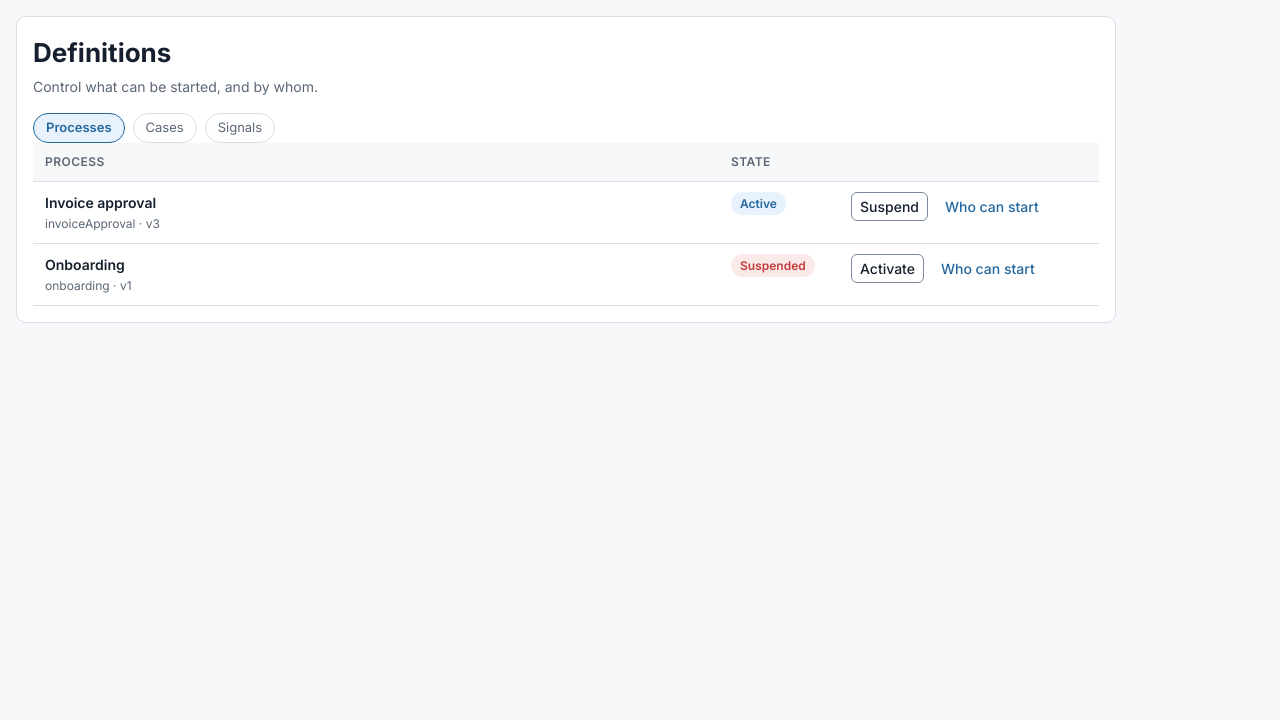
Definitions — authorized starters › explains that an empty list means unrestricted
Click the button "Who can start" in the row of "Invoice approval" at (992, 206), box [936,192,1048,221]
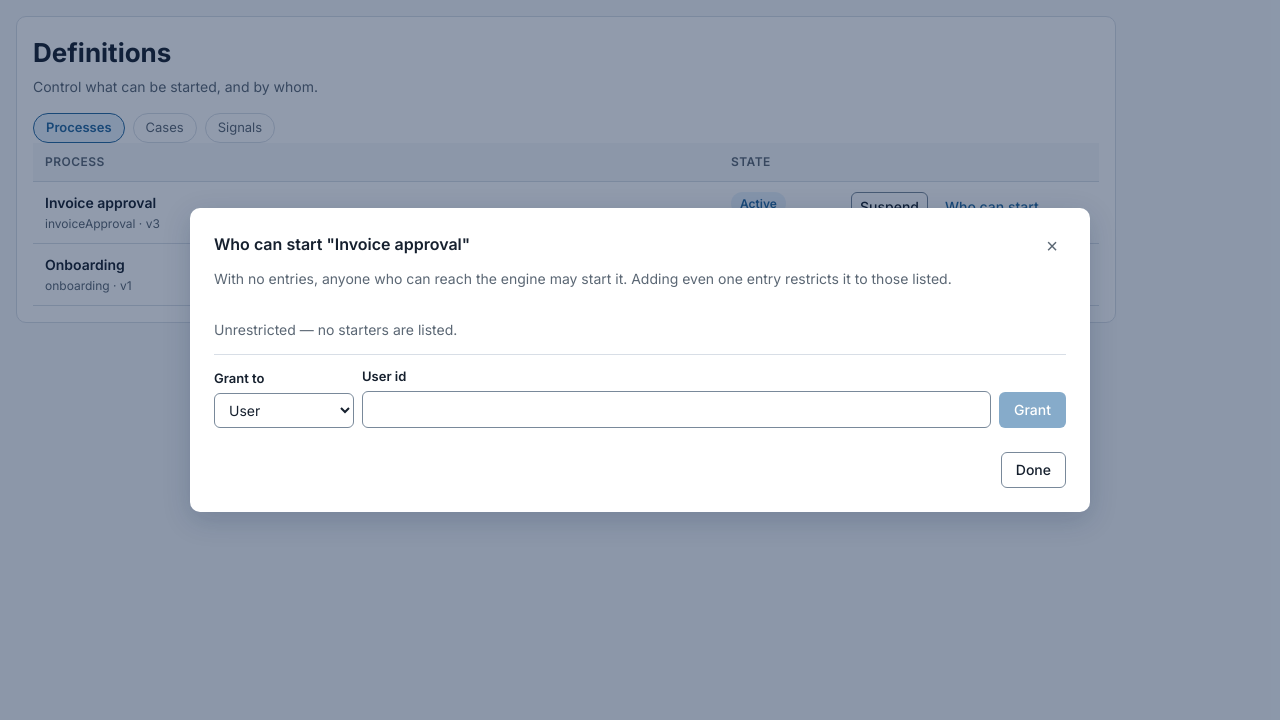
Expected: the text "Unrestricted — no starters are listed." is shown, [214,322,457,338]
